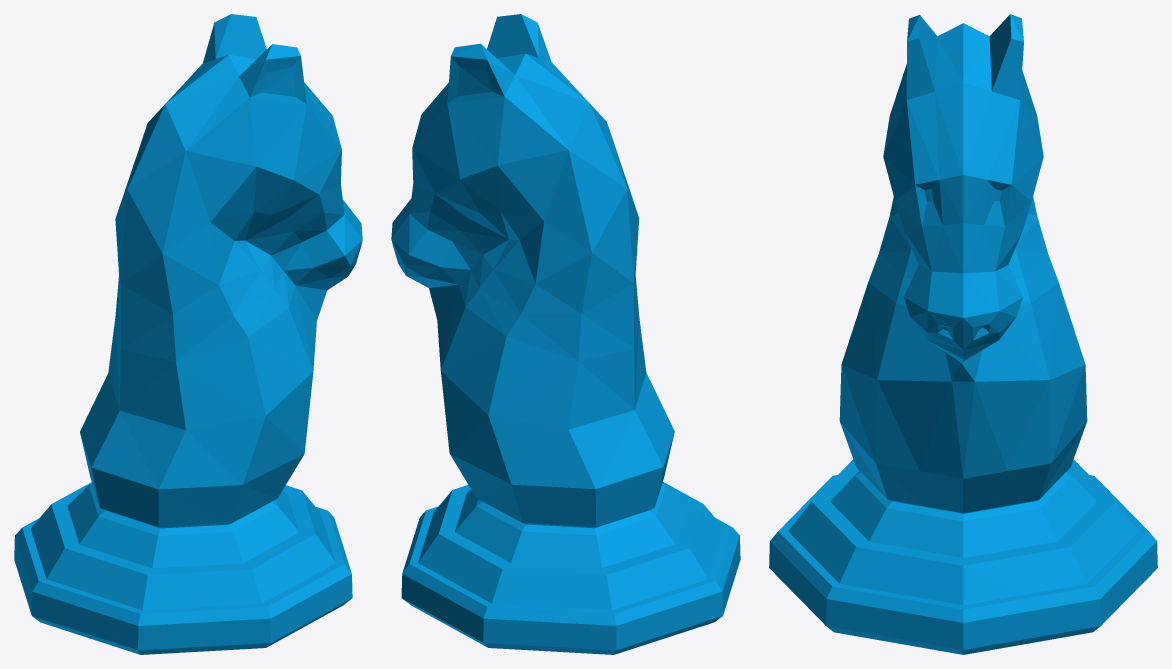
File: Pedina.fbx
3 renders of one model, left to right at view 1: azimuth 30°, elevation 25°; view 2: azimuth 150°, elevation 25°; view 3: azimuth 270°, elevation 25°, orthographic. The views are drawn at different scales.
Visible parts, largest first — view 1: node_id152; view 2: node_id152; view 3: node_id152.
Part boxes in pixels (x1,y1,x2,y2): node_id152: [14, 14, 362, 654]; node_id152: [391, 14, 740, 654]; node_id152: [769, 14, 1157, 654].
Bounding box in the file's own units: 0.6132 × 0.9617 × 0.564.
